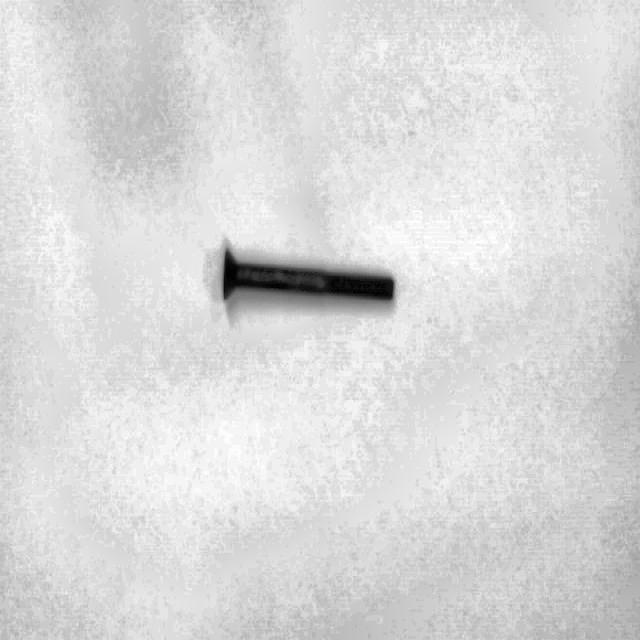Flat head socket screw: (218, 244, 397, 308)
